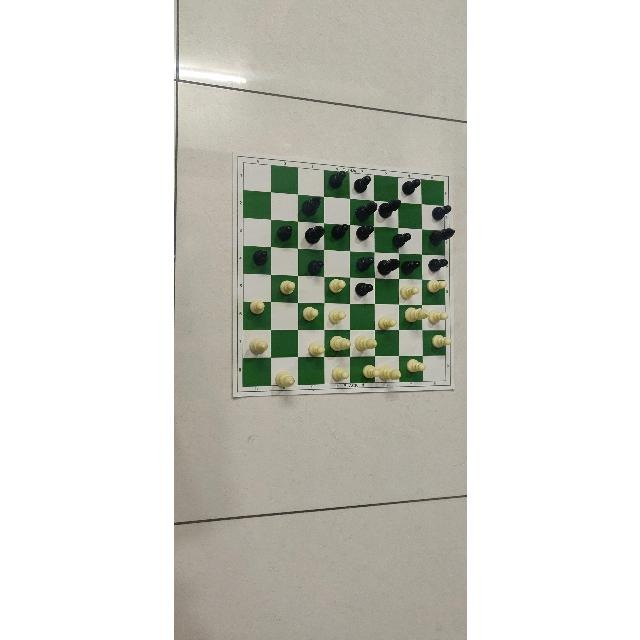black-bishop: (428, 226, 455, 245), (354, 202, 377, 222), (377, 198, 400, 218), (300, 196, 321, 216), (303, 225, 324, 245), (377, 258, 399, 276)
black-pawn: (352, 175, 370, 193), (431, 205, 451, 221), (328, 171, 345, 189), (330, 222, 348, 239), (428, 257, 448, 272), (402, 179, 420, 195), (355, 224, 373, 240), (355, 256, 373, 272), (401, 260, 420, 275), (275, 225, 292, 241), (392, 232, 410, 247), (251, 249, 267, 265), (306, 259, 323, 274), (354, 282, 372, 296)
white-bishop: (403, 307, 428, 323), (329, 334, 351, 351), (355, 334, 377, 351), (379, 363, 400, 380), (274, 370, 294, 387), (248, 338, 267, 354)
white-pawn: (431, 333, 451, 348), (426, 279, 446, 293), (399, 285, 419, 299), (428, 310, 448, 324), (327, 308, 345, 323), (377, 316, 396, 330), (362, 363, 379, 378), (331, 365, 348, 380), (306, 342, 323, 357), (327, 279, 344, 294), (407, 359, 425, 373), (302, 306, 318, 321), (248, 299, 263, 314), (279, 281, 295, 295)
